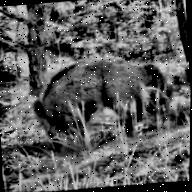boar: (20, 43, 191, 158)
